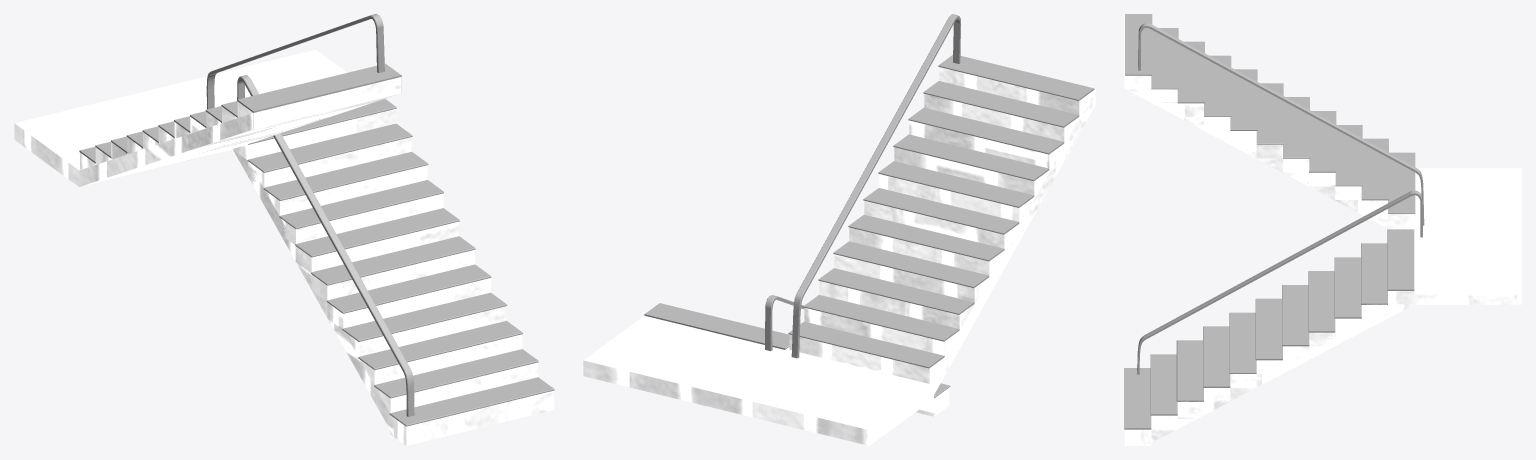
File: SM_Steps.fbx
The picture shows the model from 3 angles, left to right: view 1: azimuth 30°, elevation 25°; view 2: azimuth 150°, elevation 25°; view 3: azimuth 270°, elevation 25°; orthographic projection. The views are drawn at different scales.
Parts seen in each view (by area): view 1: SM_Steps; view 2: SM_Steps; view 3: SM_Steps.
Boxes of the visible parts, box(x1,y1,x2,y2) form: SM_Steps: box(14, 14, 554, 445); SM_Steps: box(583, 14, 1095, 445); SM_Steps: box(1124, 14, 1521, 445).
Bounding box in the file's own units: 279 × 382 × 377.
